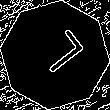L_SW: (25, 27, 85, 83)
